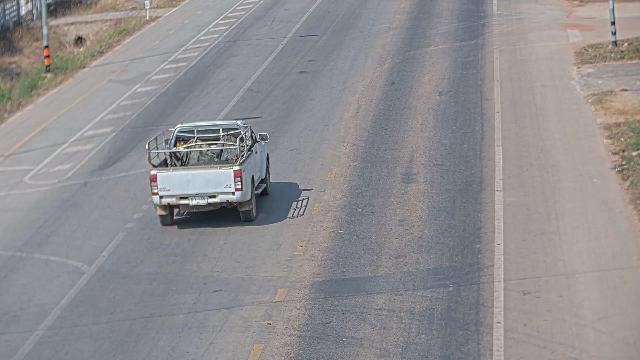pickup-truck: (145, 119, 271, 226)
